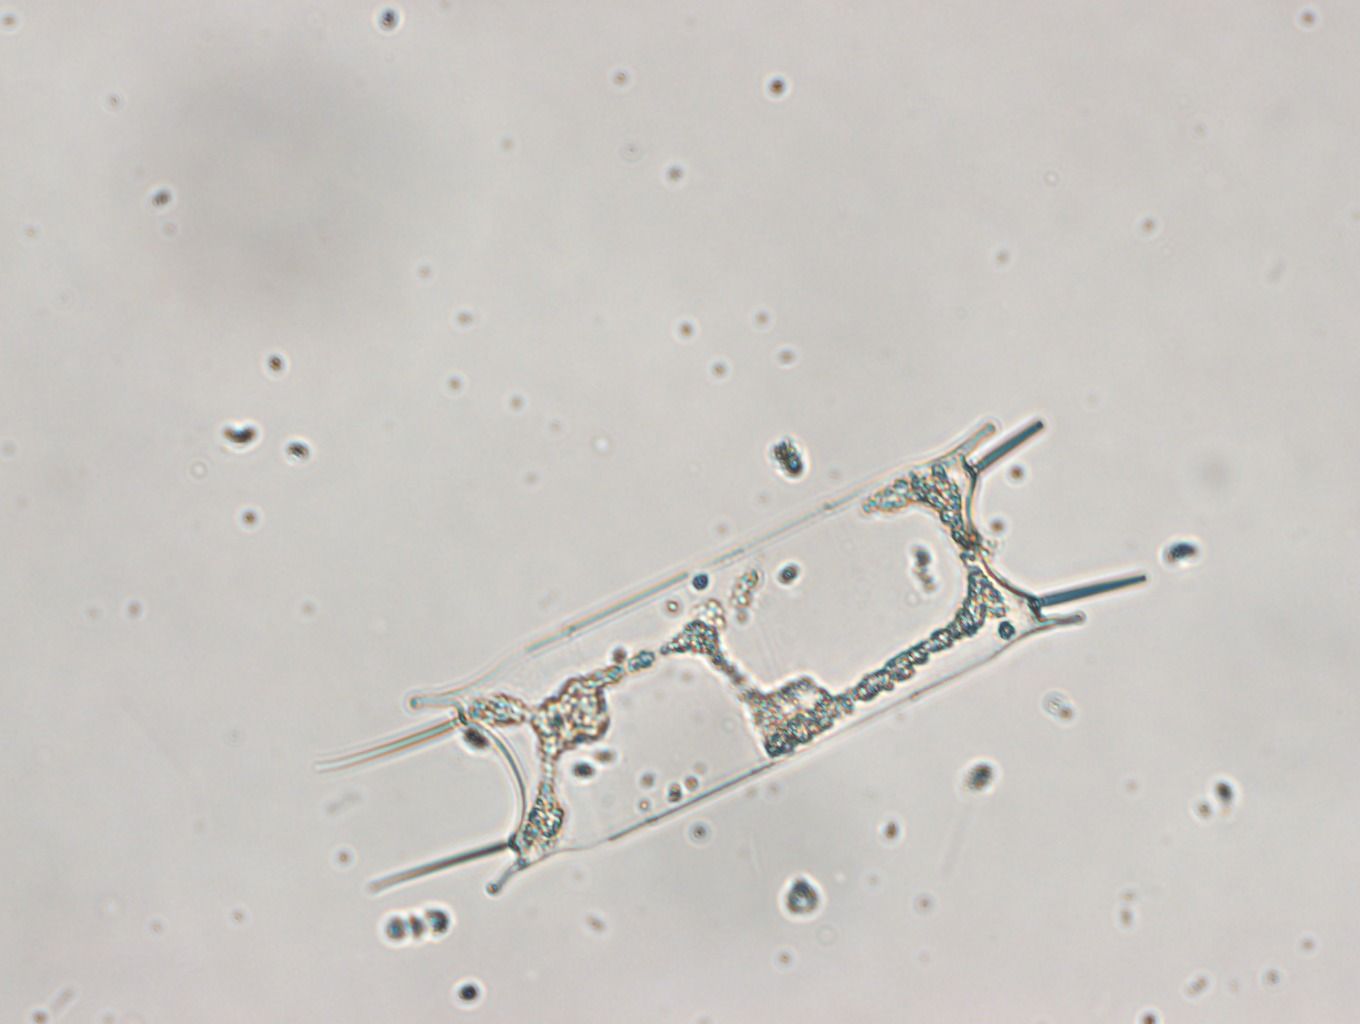biddulphia: (315, 386, 1162, 907)
